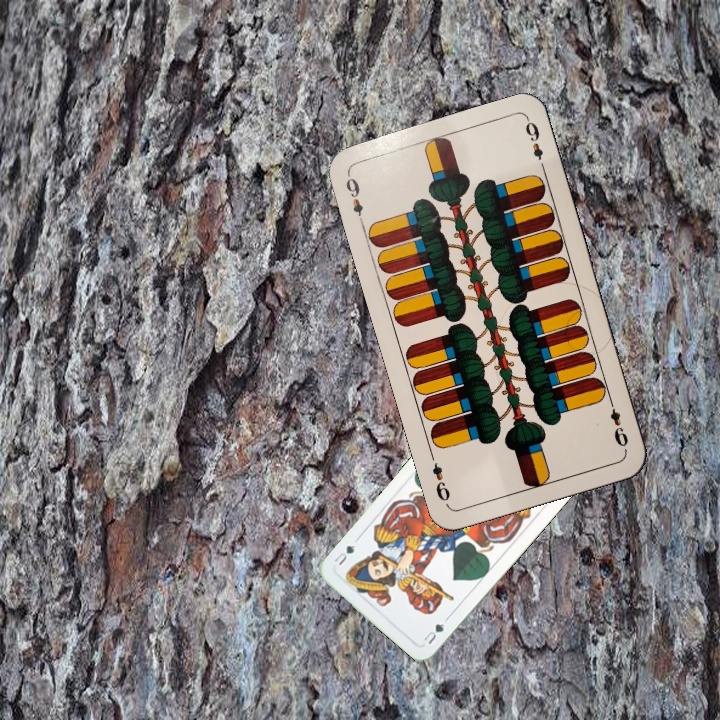E9: (605, 394, 631, 453), (342, 170, 367, 228)
GU: (420, 618, 447, 647)
